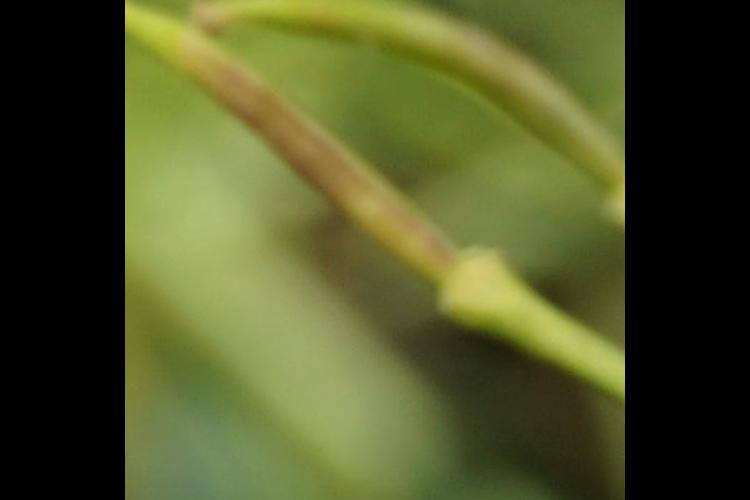pod: (152, 48, 445, 352), (171, 1, 619, 150)
